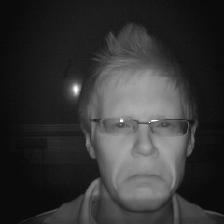sad: (71, 41, 205, 208)
